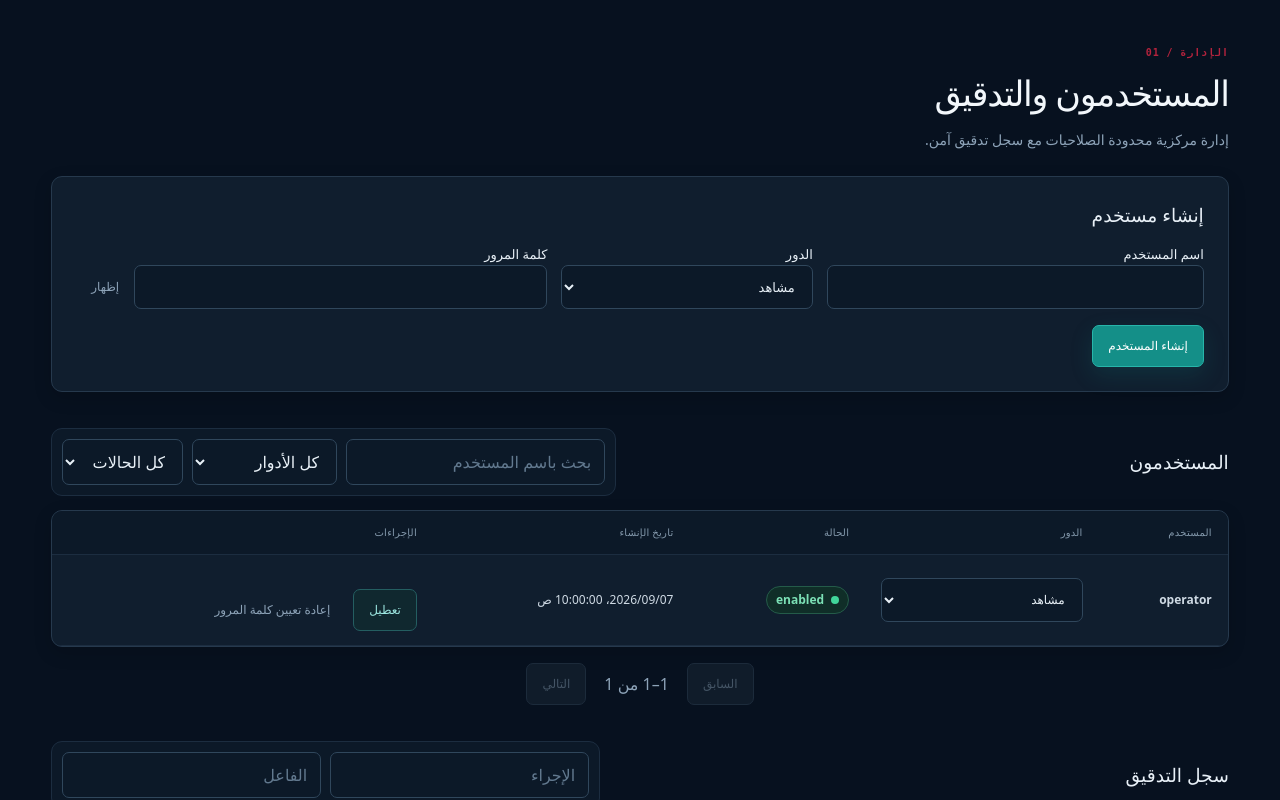
Test: administration frontend › requires confirmation and blocks duplicate sensitive submissions
Click the button "تعطيل" at (385, 610), box left=353, top=589, right=417, bottom=631
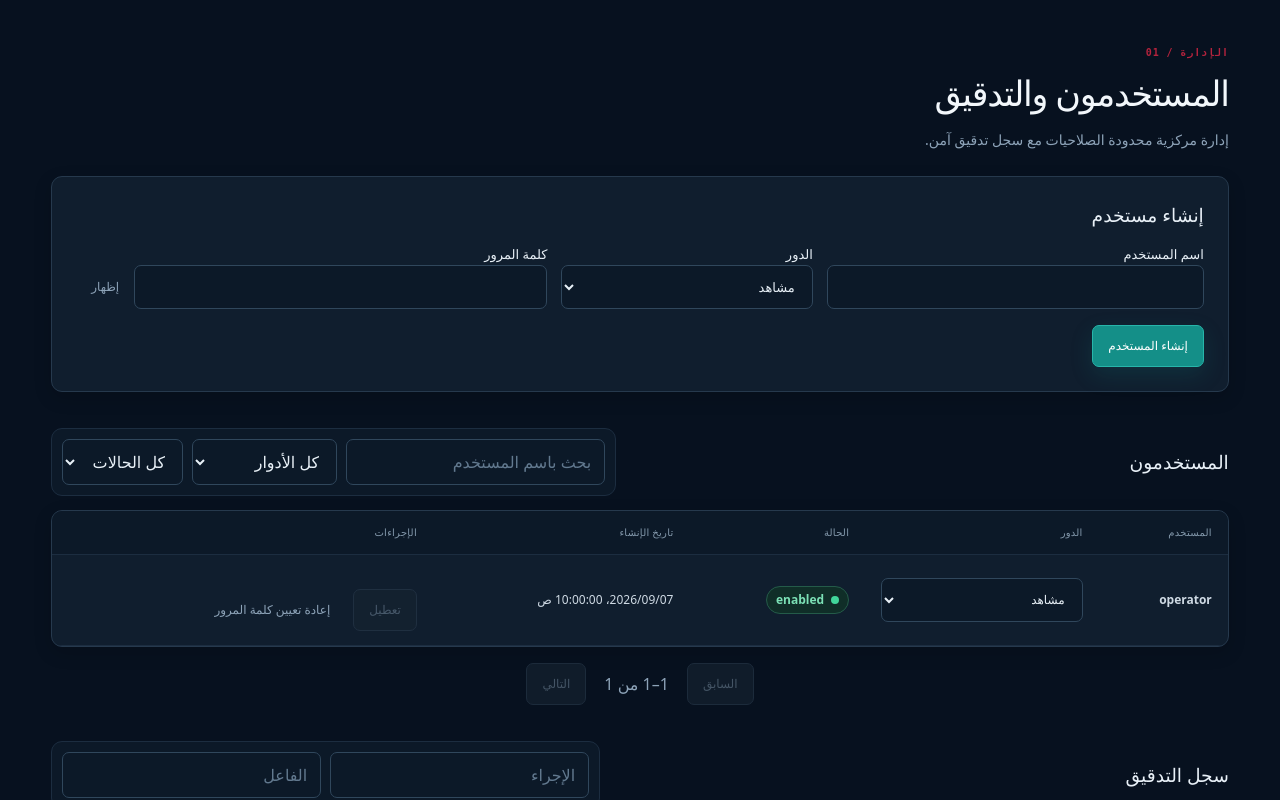
Expected: the button "تعطيل" is disabled, left=353, top=589, right=417, bottom=631
